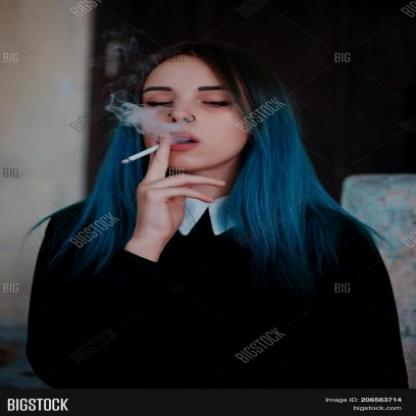cigarette: (121, 143, 162, 166)
person: (94, 43, 308, 390)
smoke: (106, 95, 165, 136)
